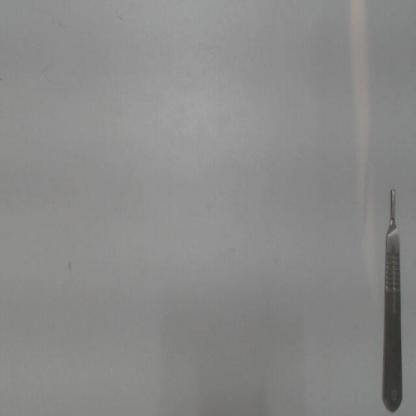No.3 BP Handle: (379, 181, 406, 415)
